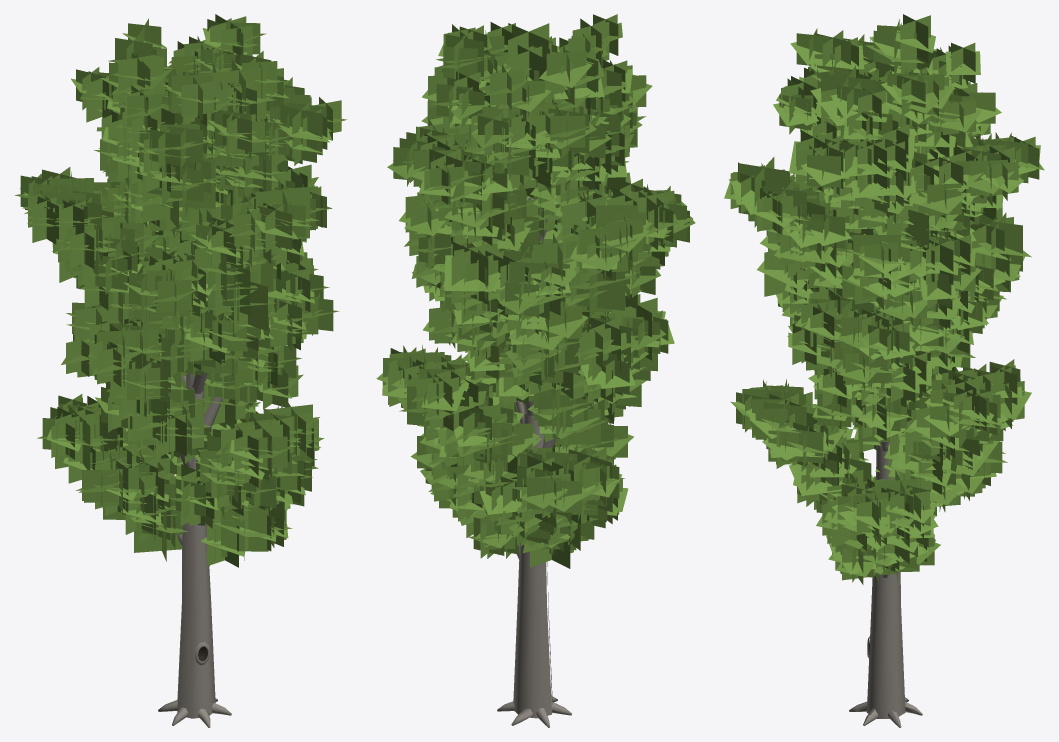
Rendered from tilleul_5_f3_jeu.glb.
3 renders of one model, left to right at view 1: azimuth 30°, elevation 25°; view 2: azimuth 150°, elevation 25°; view 3: azimuth 270°, elevation 25°, orthographic.
Parts seen in each view (by area): view 1: Tilleul_T5_f3_Leger; view 2: Tilleul_T5_f3_Leger; view 3: Tilleul_T5_f3_Leger.
Part boxes in pixels (x1,y1,x2,y2): Tilleul_T5_f3_Leger: [15, 14, 346, 727]; Tilleul_T5_f3_Leger: [376, 14, 695, 727]; Tilleul_T5_f3_Leger: [724, 14, 1044, 727].
Bounding box in the file's own units: 8.96 × 20.25 × 8.77.
